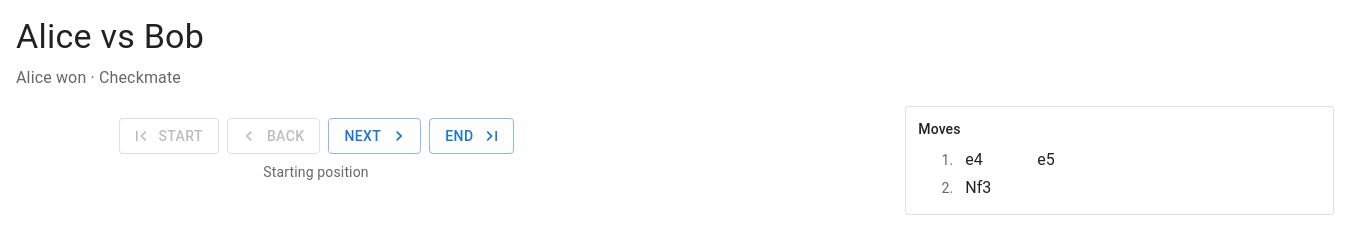
Test: GameReview › jumps to a position when a SAN move is clicked
The image size is (1351, 232).
Check: the heading "Alice vs Bob" is shown, box [16,16,204,56]
Click the button with aria-label "Go to move Nf3": (993, 188) [961,176,1025,200]
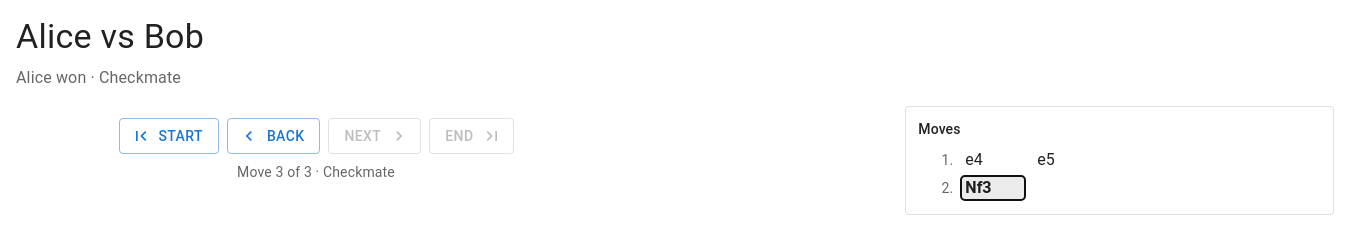
Check: the text "Move 3 of 3 · Checkmate" is shown, box [237,164,395,180]
Check: the button with aria-label "Next move" is disabled, box [328,118,421,154]
